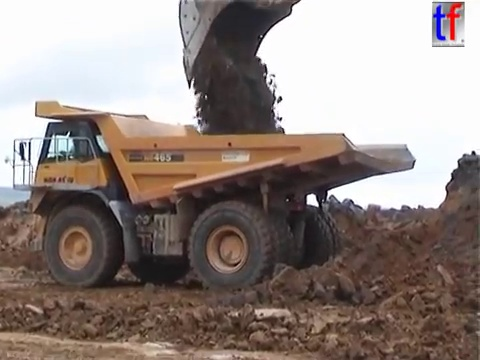excavator: (175, 1, 304, 91)
truck: (1, 97, 419, 297)
